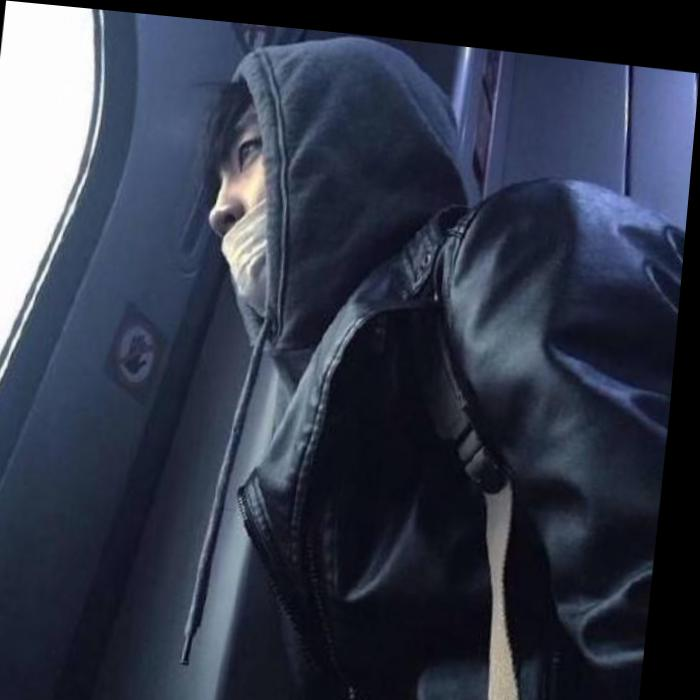WRONG: (198, 116, 323, 306)
